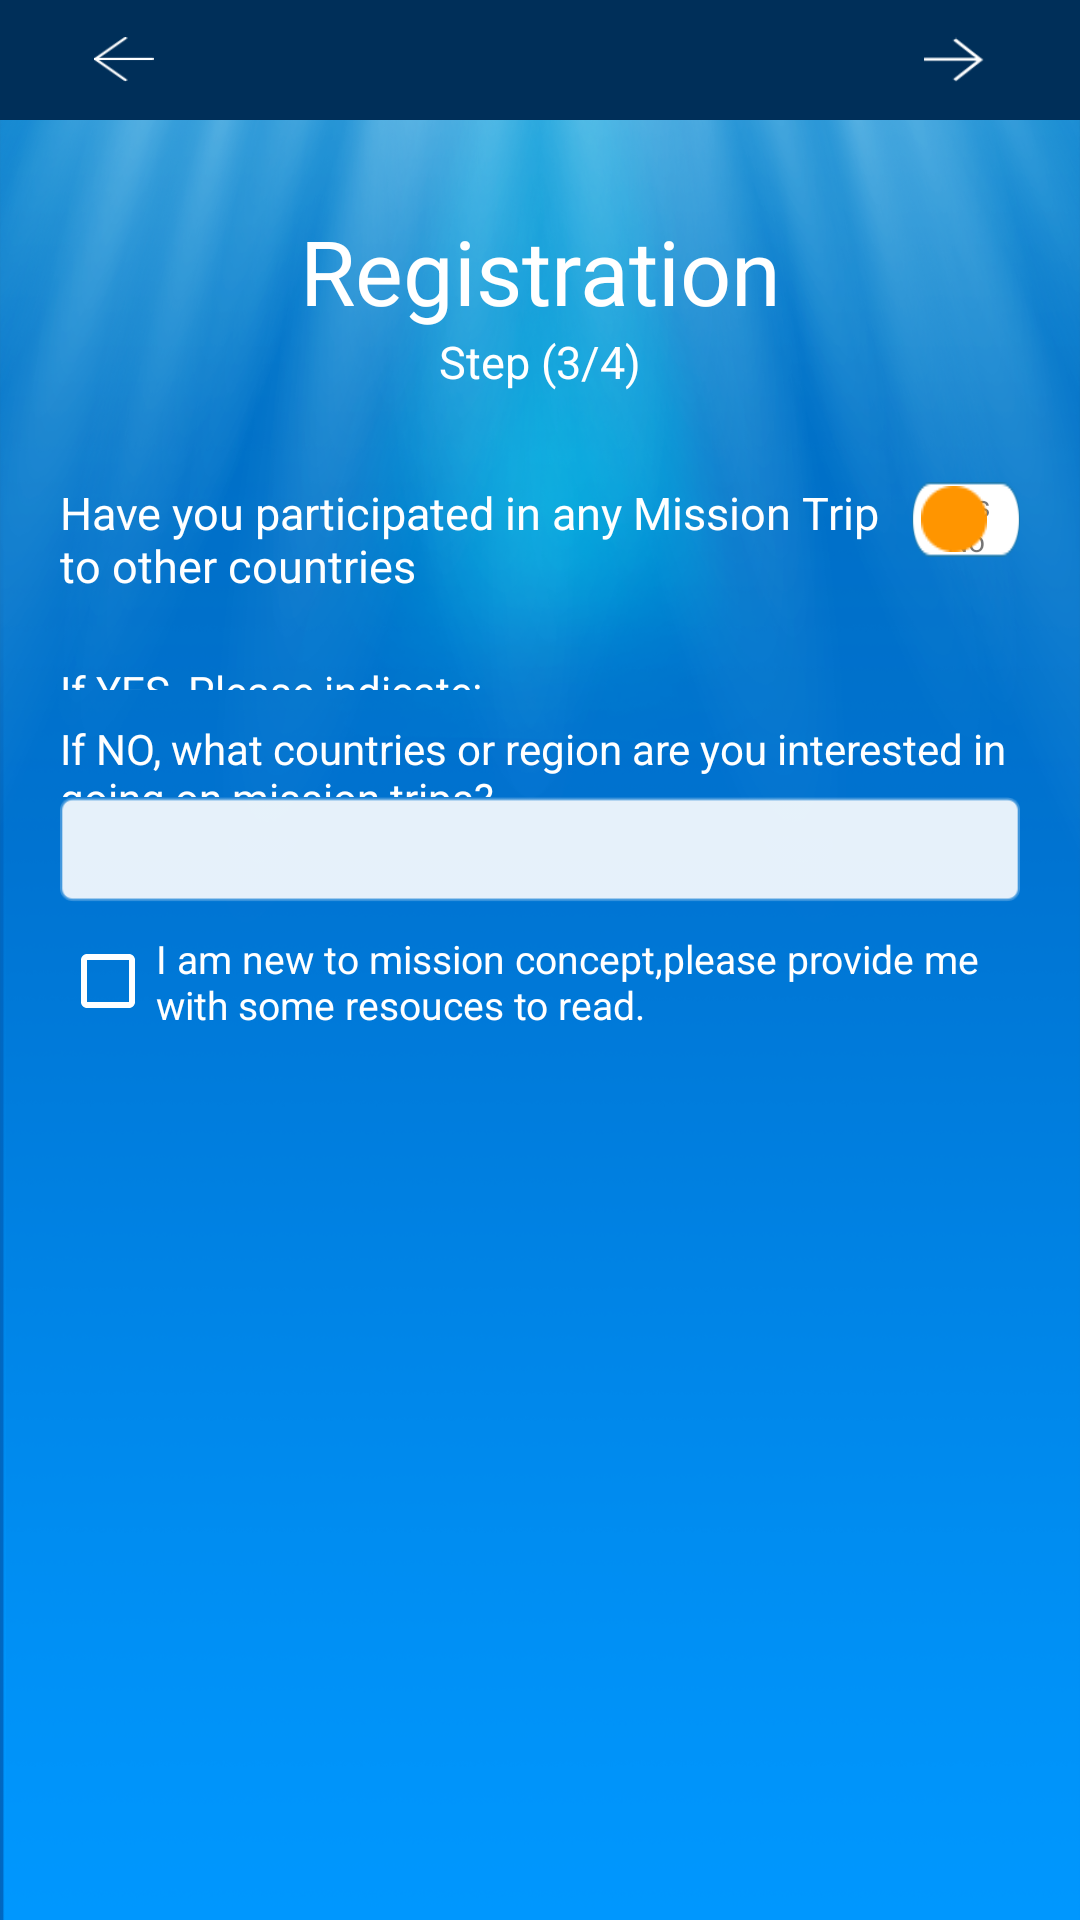

Point at icon controls on the screen. Image size 1080w x 1920h, points as (x,y).
left arrow: (124,59)
right arrow: (953,59)
toggleswitch: (954,519)
